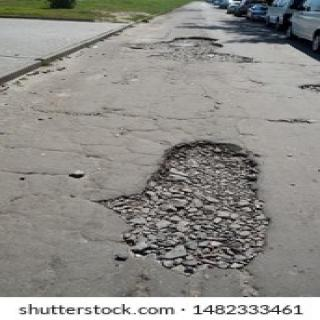pothole: (102, 140, 270, 277), (123, 33, 257, 64), (300, 84, 320, 94)
